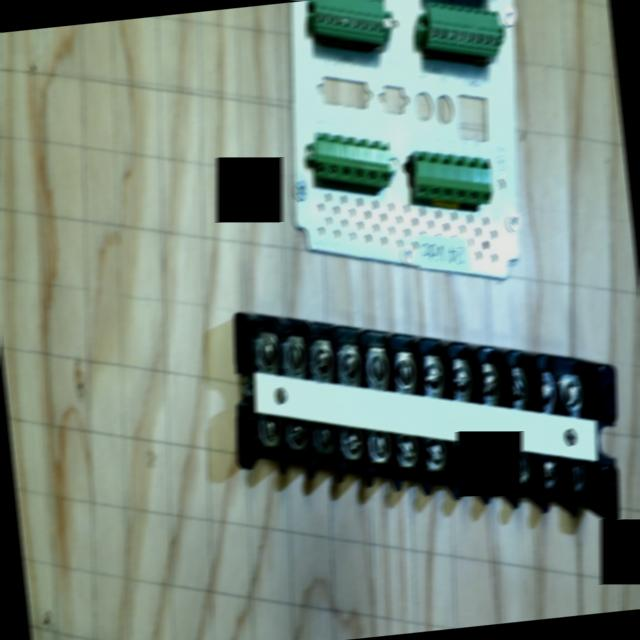Flathead_Block: (213, 312, 640, 519)
Terminal_1: (308, 130, 396, 187), (409, 150, 496, 204)
Terminal_2: (420, 0, 505, 54), (314, 0, 384, 40)
